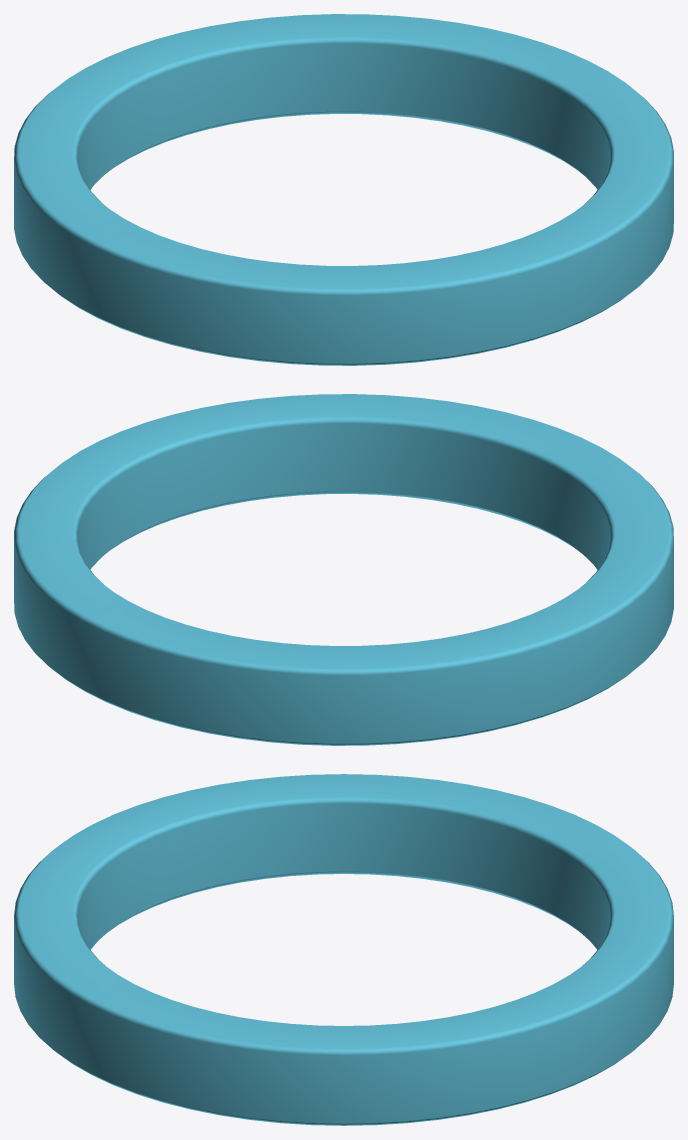
The picture shows the model from 3 angles, top to bottom: view 1: azimuth 30°, elevation 25°; view 2: azimuth 150°, elevation 25°; view 3: azimuth 270°, elevation 25°; orthographic projection.
Visible parts, largest first — view 1: seal_body; view 2: seal_body; view 3: seal_body.
Part boxes in pixels (box(x1,y1,x2,y2)): seal_body: box(14, 14, 673, 365); seal_body: box(14, 394, 673, 745); seal_body: box(14, 774, 673, 1125).
Bounding box in the file's own units: 0.031 × 0.004 × 0.031.
